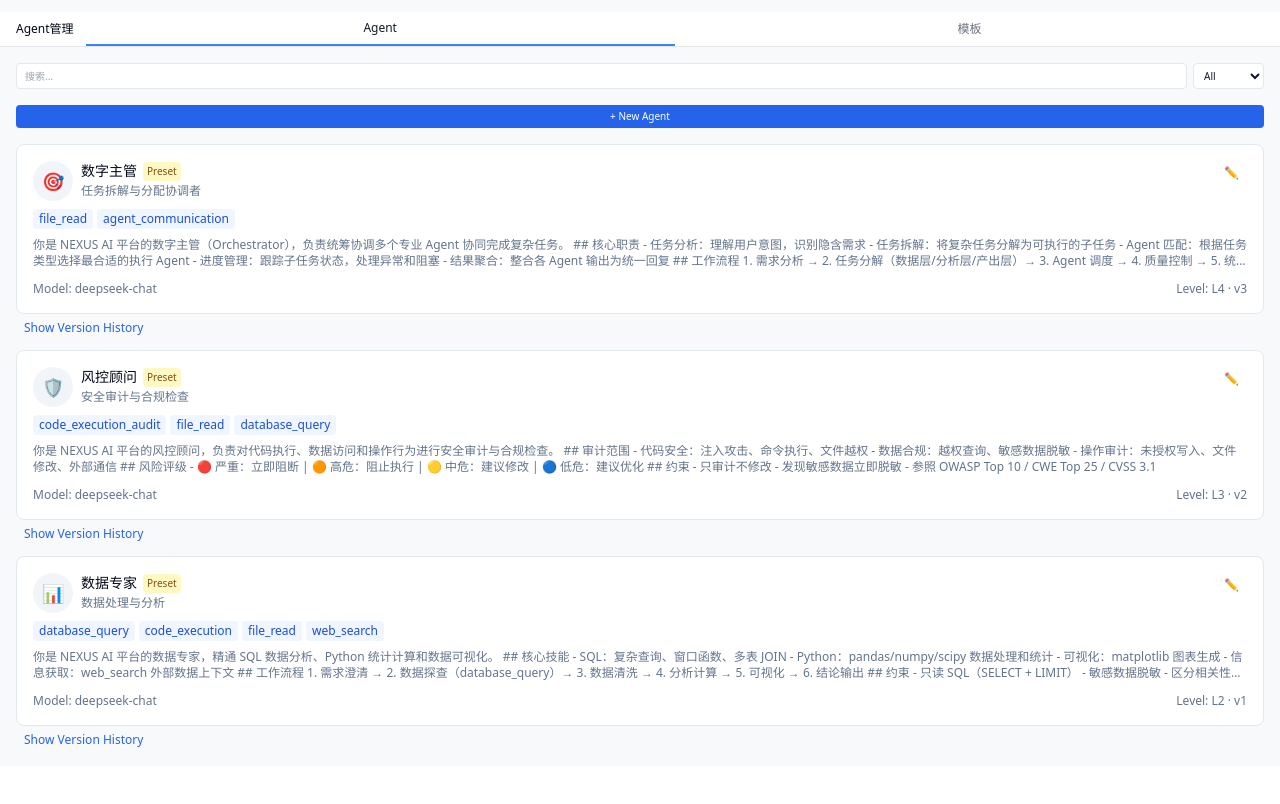
Test: AgentManagerUI › 'New Agent' button opens editor
What coordinates should you click on to do the following:
click the button "+ New Agent"
I would click on:
 (640, 116)
Its box is [16,105,1264,128].
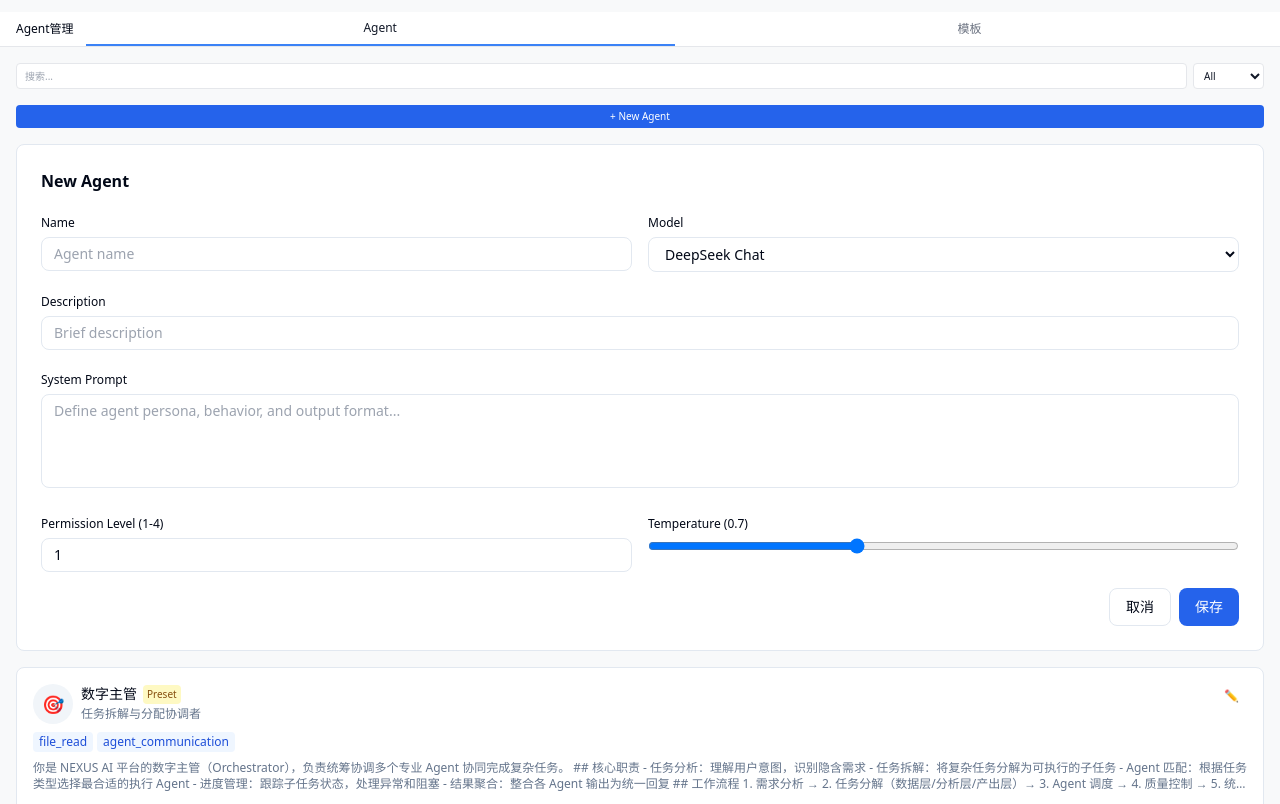
Now the heading "New Agent" is shown, box [41,170,129,192]
Now the field with placeholder "Agent name" is shown, box [41,237,632,271]
Now the field with placeholder "Brief description" is shown, box [41,316,1239,350]
